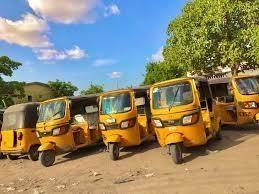keke: (151, 74, 222, 169), (38, 96, 96, 167), (98, 83, 151, 160), (0, 96, 40, 161), (221, 73, 259, 131)
